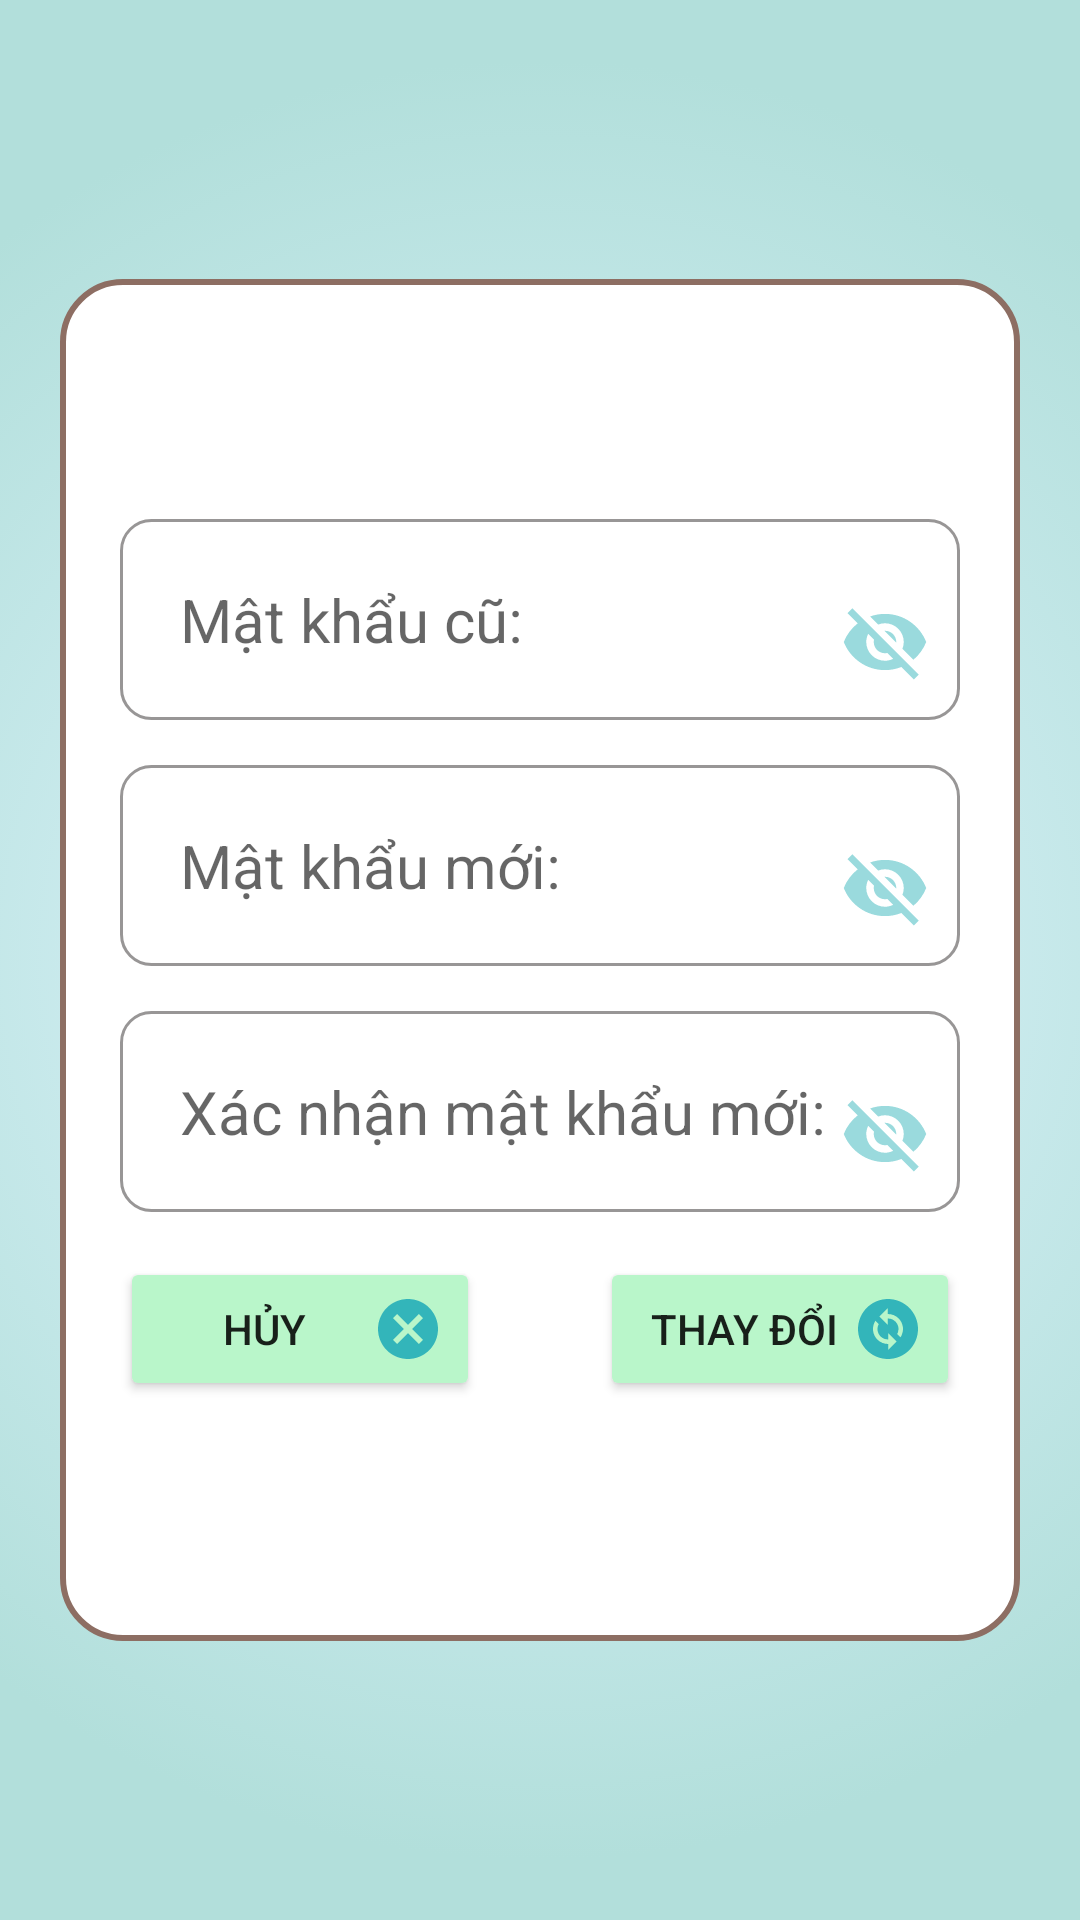

Icon bounding boxes for this 1080px×1920px phone screenshot, format (x1, y1, x2, y2):
visibility off: (844, 608, 926, 679), (844, 854, 926, 925), (844, 1100, 926, 1171)
